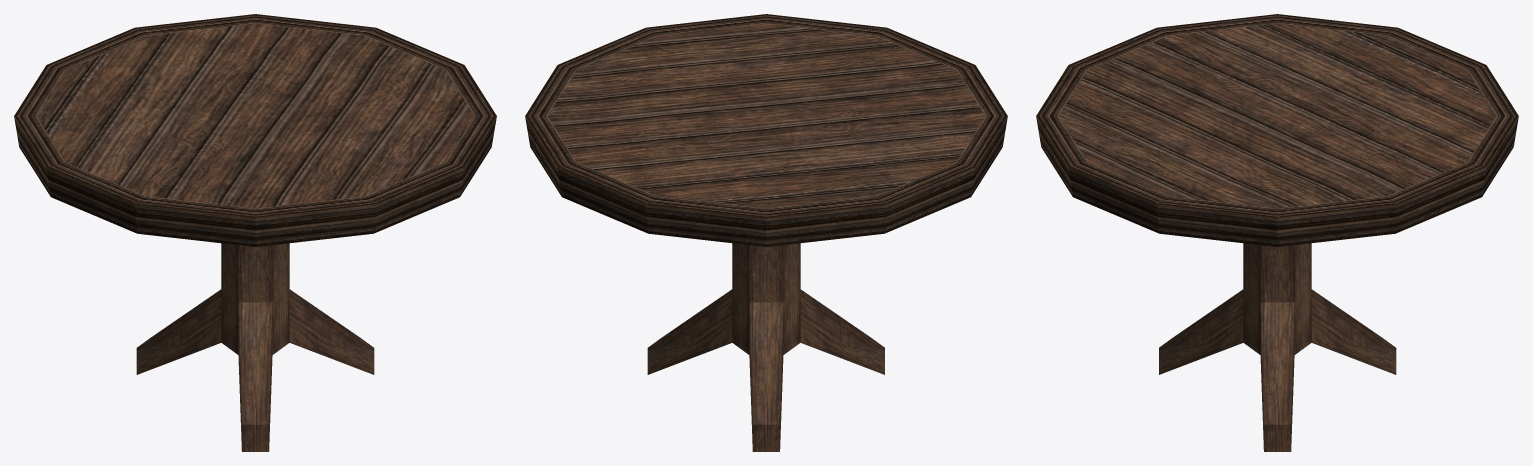
The model's file is GS_TABLE_CIRCULAR_ORANGE_01_KOZA.glb.
3 renders of one model, left to right at view 1: azimuth 30°, elevation 25°; view 2: azimuth 150°, elevation 25°; view 3: azimuth 270°, elevation 25°, orthographic.
Visible parts, largest first — view 1: GS_TABLE_CIRCULAR_ORANGE_01_KOZA; view 2: GS_TABLE_CIRCULAR_ORANGE_01_KOZA; view 3: GS_TABLE_CIRCULAR_ORANGE_01_KOZA.
Boxes of the visible parts, <box> form: GS_TABLE_CIRCULAR_ORANGE_01_KOZA: <box>14,14,496,451</box>; GS_TABLE_CIRCULAR_ORANGE_01_KOZA: <box>525,14,1007,451</box>; GS_TABLE_CIRCULAR_ORANGE_01_KOZA: <box>1036,14,1518,451</box>.
Size of the model in its own units: 1.4 by 0.9 by 1.4.
Materials: 2 (2 with a texture image).
